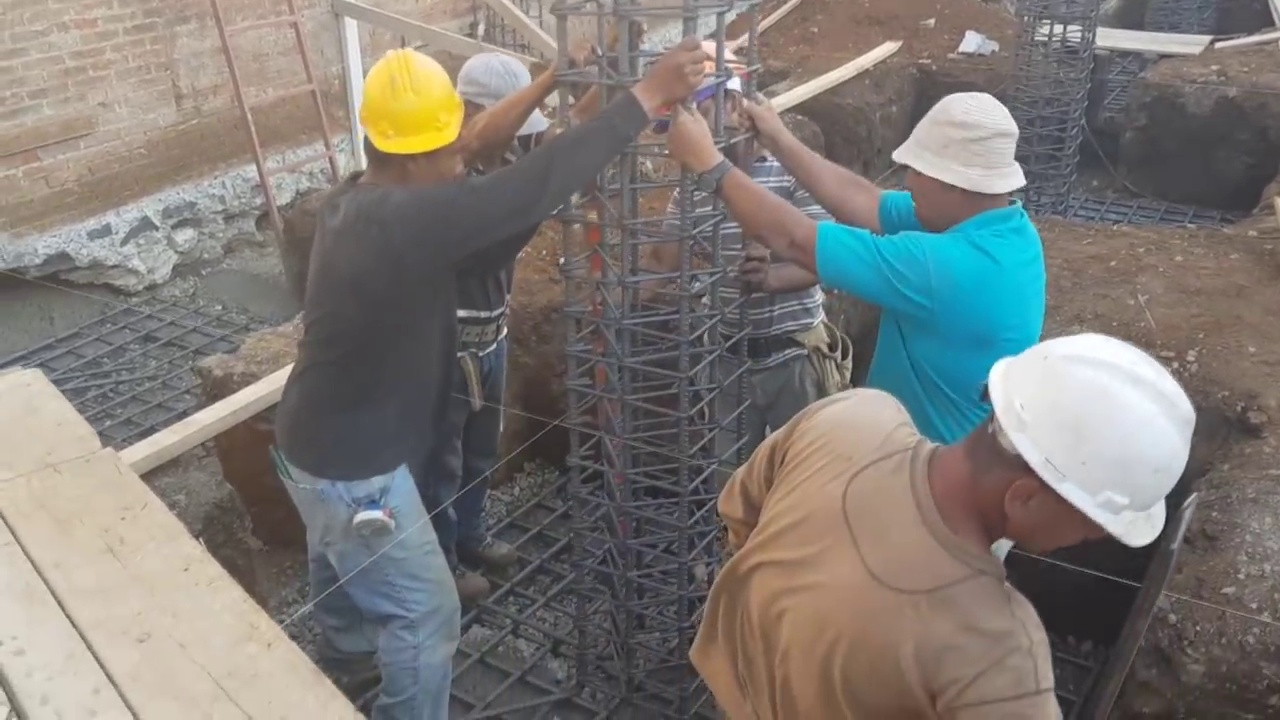helmet: (994, 340, 1205, 568), (354, 47, 464, 155), (698, 41, 744, 81)
helmet-off: (891, 91, 1033, 233), (453, 51, 545, 161)
helmet-on: (920, 334, 1206, 574), (339, 44, 468, 198), (679, 42, 746, 145)
person: (248, 39, 670, 711), (676, 341, 1199, 720), (645, 67, 1039, 444), (632, 34, 864, 477), (426, 52, 596, 600)
